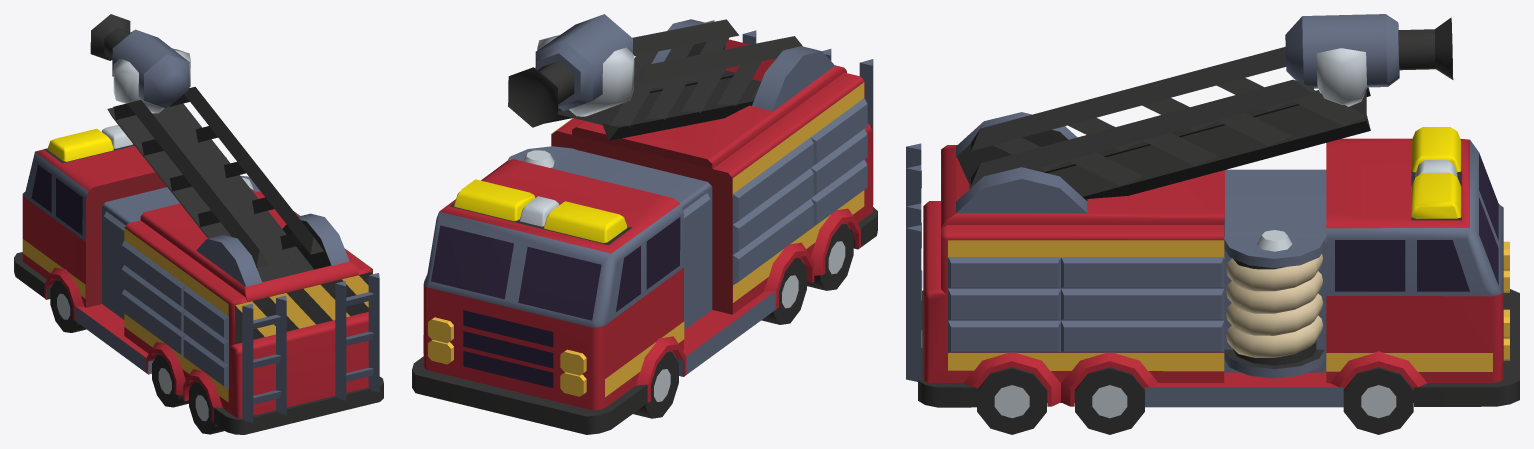
File: FireCar.glb
The picture shows the model from 3 angles, left to right: view 1: azimuth 30°, elevation 25°; view 2: azimuth 150°, elevation 25°; view 3: azimuth 270°, elevation 25°; orthographic projection. The views are drawn at different scales.
Visible parts, largest first — view 1: FireCar; view 2: FireCar; view 3: FireCar.
Part boxes in pixels (x1,y1,x2,y2): FireCar: [14, 14, 383, 434]; FireCar: [412, 14, 877, 434]; FireCar: [906, 14, 1519, 434].
Bounding box in the file's own units: 0.4245 × 0.6958 × 1.04.
